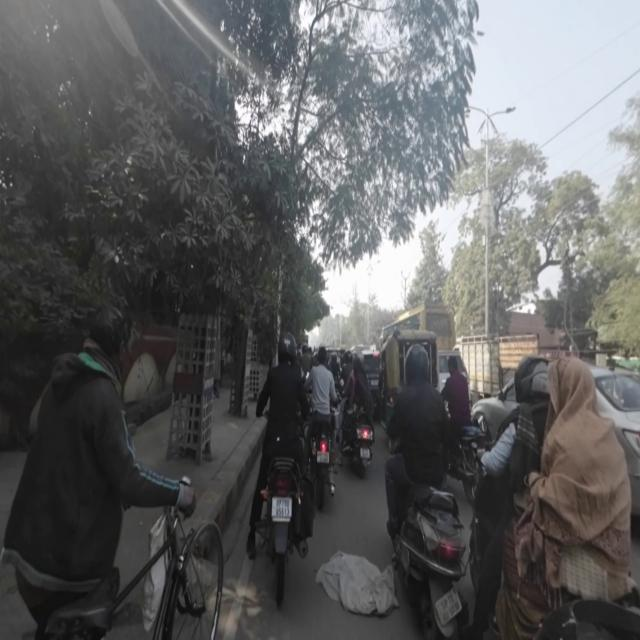Garbage: (314, 545, 396, 613)
